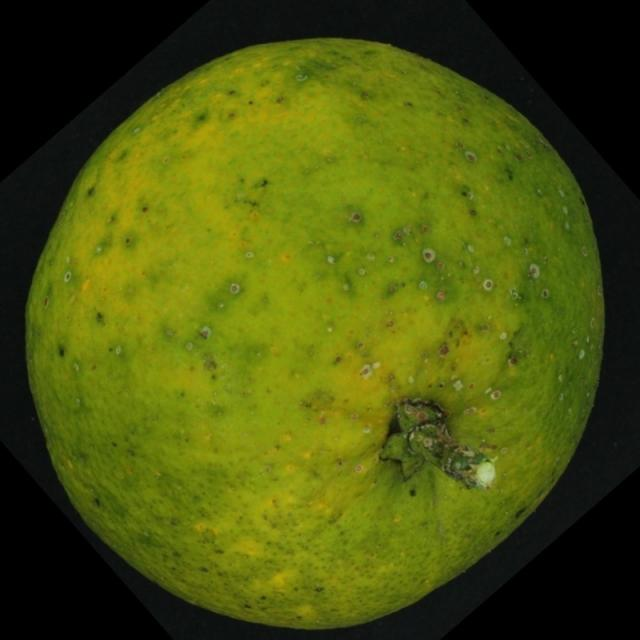grenning: (16, 24, 619, 635)
